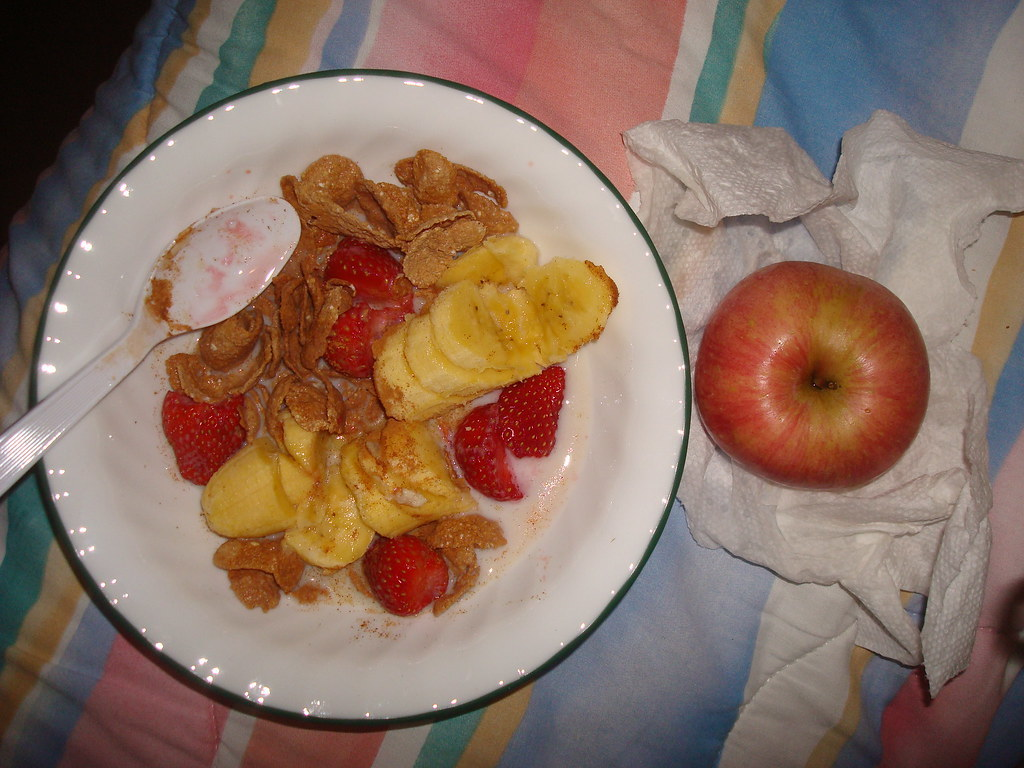apple: (685, 256, 938, 504)
